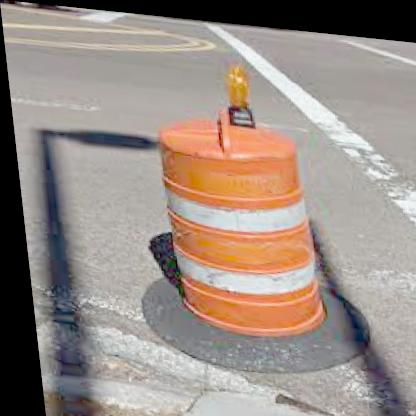obstacle: (150, 113, 333, 348)
